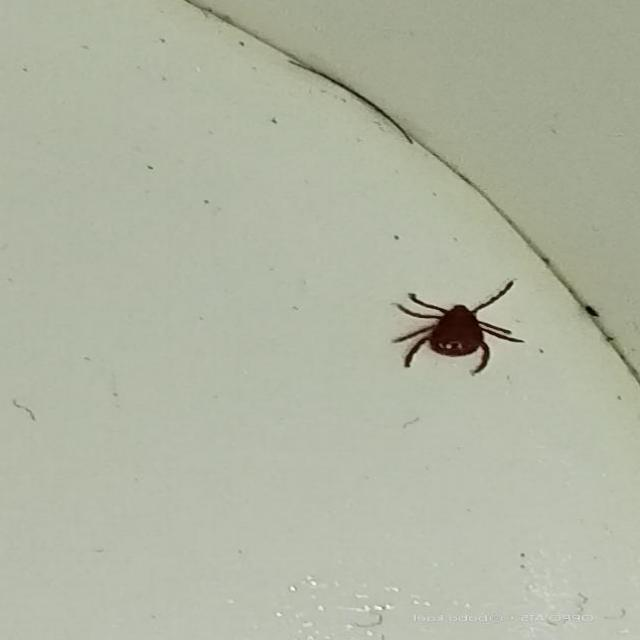Rhipicephalus Sanguineus-M: (390, 289, 524, 377)
